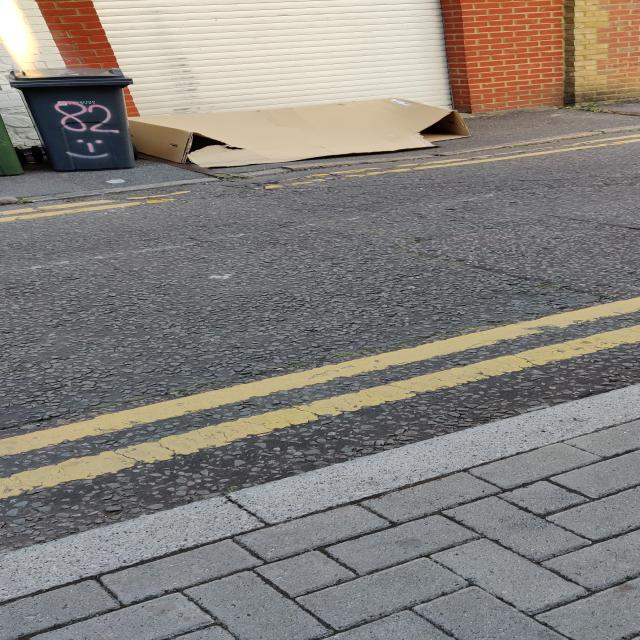litter: (129, 98, 471, 169)
